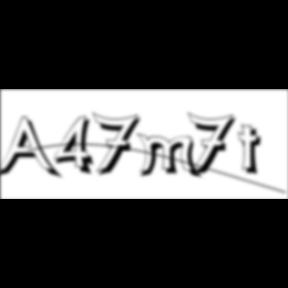4: (54, 115, 100, 179)
7: (92, 111, 148, 179), (188, 111, 242, 179)
A: (0, 116, 64, 182)
m: (137, 132, 205, 181)
t: (238, 124, 270, 179)
